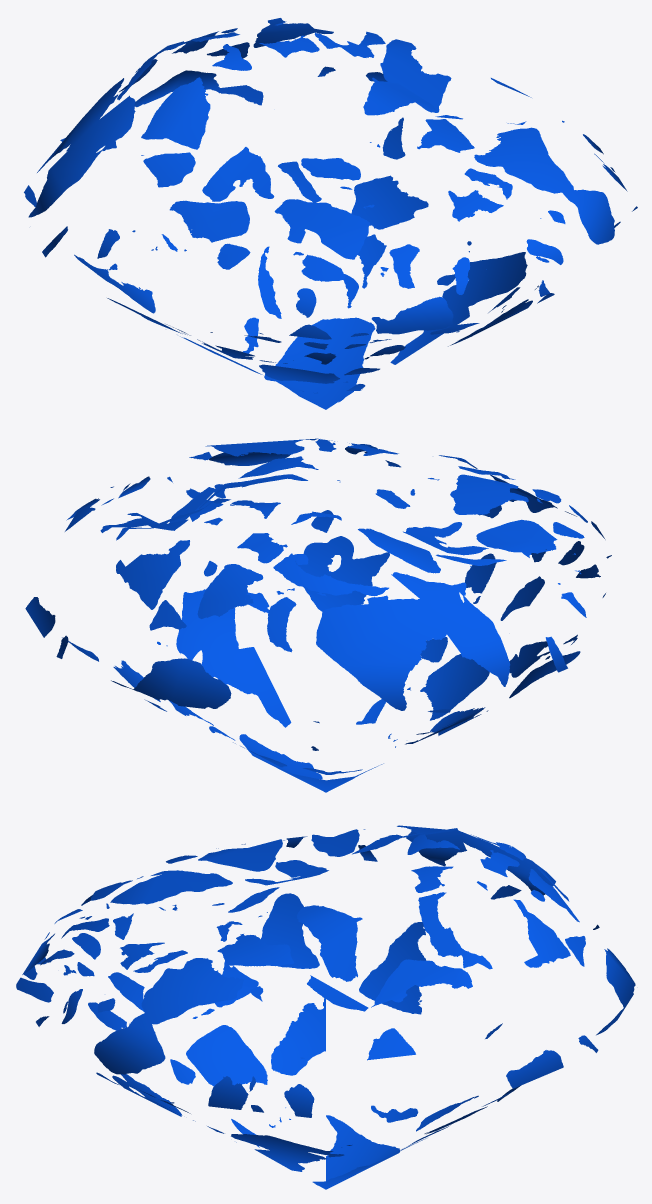
The model's file is food.fbx.
3 views of the same model, one above another, from view 1: azimuth 30°, elevation 25°; view 2: azimuth 150°, elevation 25°; view 3: azimuth 270°, elevation 25° (orthographic).
Visible parts, largest first — view 1: Bowl; view 2: Bowl; view 3: Bowl.
Boxes of the visible parts, box(x1,y1,x2,y2) form: Bowl: box(24, 18, 637, 409); Bowl: box(25, 438, 611, 792); Bowl: box(16, 825, 635, 1189).
Bounding box in the file's own units: 11.87 × 6.93 × 11.87.
